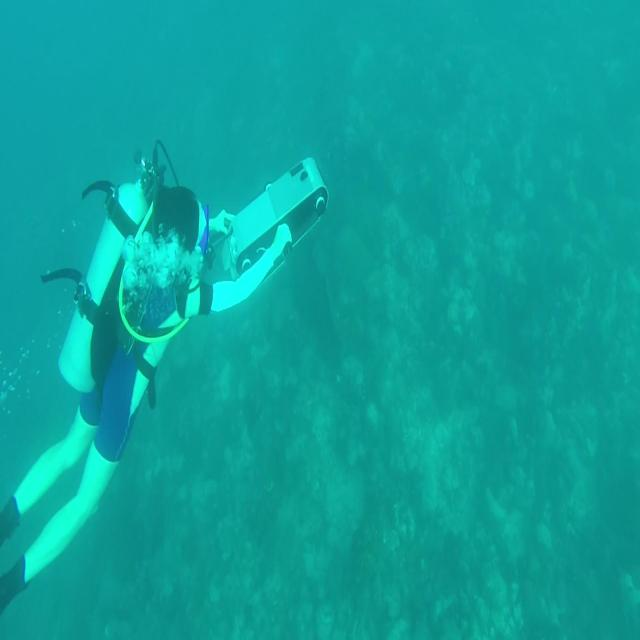human: (1, 143, 326, 614)
